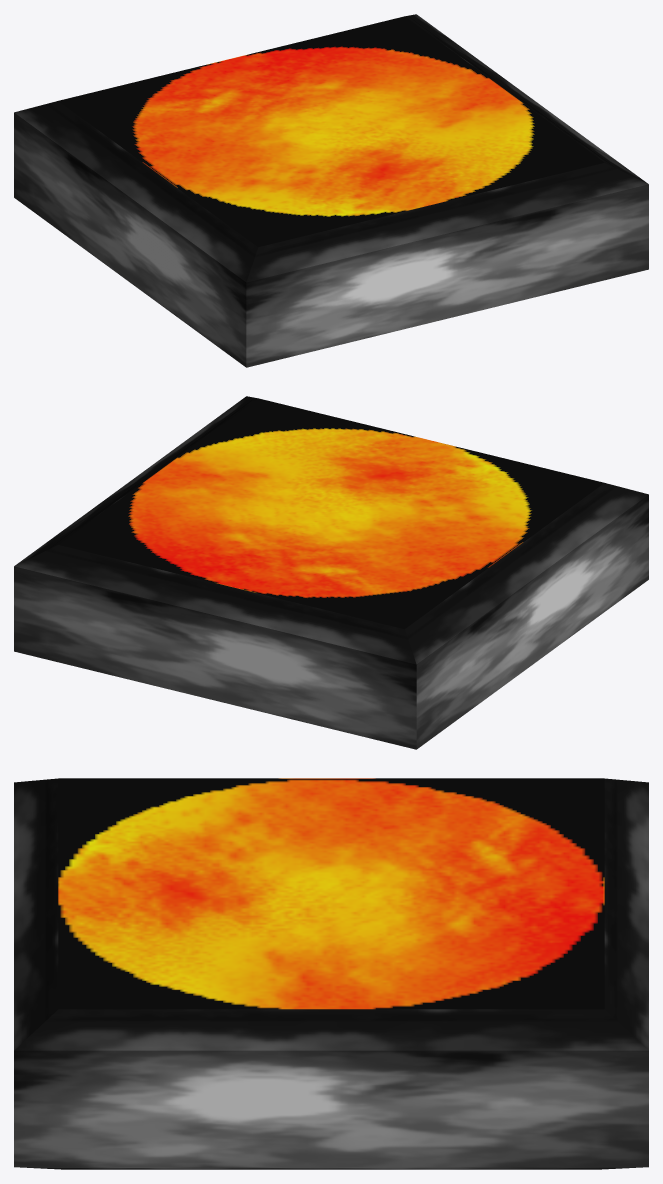
File: block.obj
3 renders of one model, top to bottom at view 1: azimuth 30°, elevation 25°; view 2: azimuth 150°, elevation 25°; view 3: azimuth 270°, elevation 25°, orthographic. The views are drawn at different scales.
Visible parts, largest first — view 1: Cube, Cube.001; view 2: Cube, Cube.001; view 3: Cube.001, Cube.
Part boxes in pixels (x1=…): Cube: x1=14, y1=14, x2=648, y2=367; Cube.001: x1=58, y1=16, x2=604, y2=247; Cube: x1=14, y1=396, x2=648, y2=749; Cube.001: x1=58, y1=398, x2=604, y2=629; Cube.001: x1=58, y1=778, x2=604, y2=1009; Cube: x1=14, y1=778, x2=648, y2=1169.
Size of the model in its own units: 2 by 0.5606 by 2.
